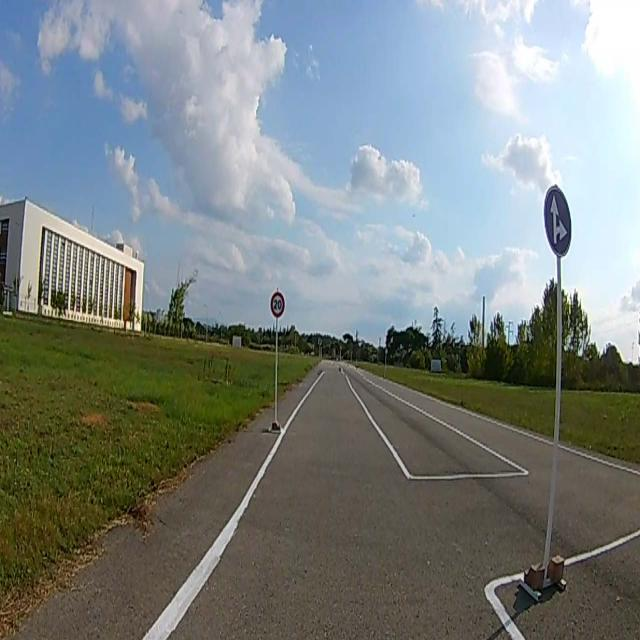20: (271, 292, 285, 317)
ilerisag: (544, 187, 572, 253)
